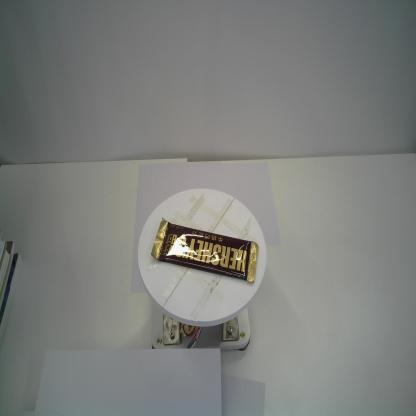Chocolate: (149, 215, 259, 285)
